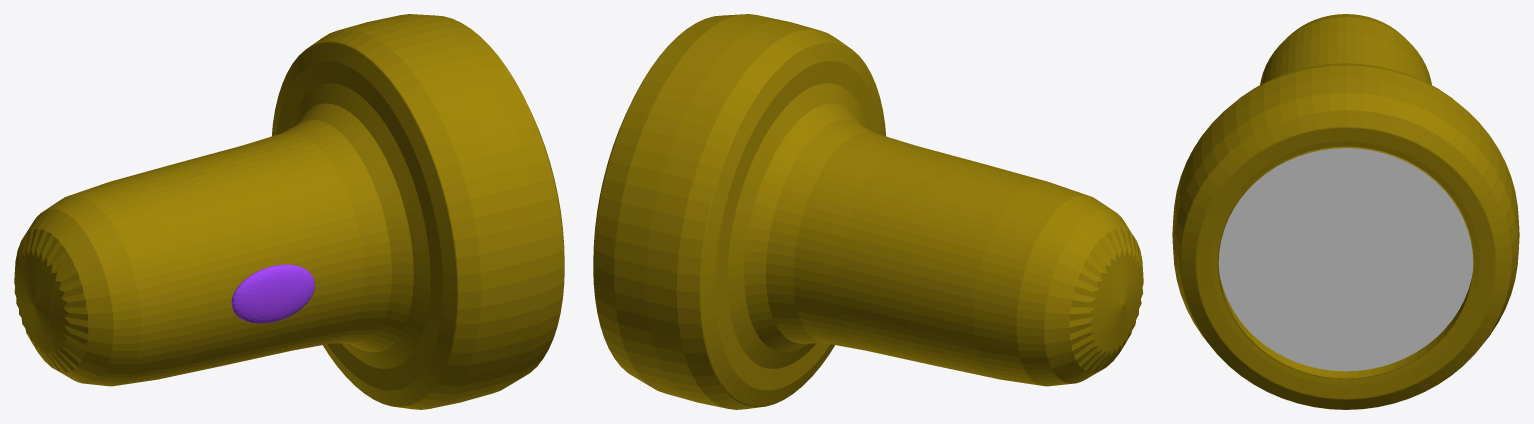
The model's file is flashLight_Fractured.fbx.
3 views of the same model, side by side, from view 1: azimuth 30°, elevation 25°; view 2: azimuth 150°, elevation 25°; view 3: azimuth 270°, elevation 25° (orthographic). The views are drawn at different scales.
Visible parts, largest first — view 1: Flashlight_cell.019, Flashlight_cell.011, Flashlight_cell.003, Flashlight_cell.021, Flashlight_cell.024, Flashlight_cell.010, Flashlight_cell.015, Flashlight_cell.016, Flashlight_cell.008, Flashlight_cell.001; view 2: Flashlight_cell.019, Flashlight_cell.013, Flashlight_cell.008, Flashlight_cell.001, Flashlight_cell.015, Flashlight_cell.005, Flashlight_cell.016, Flashlight_cell.002, Flashlight_cell.021, Flashlight_cell.011, Flashlight_cell.006, Flashlight_cell.003; view 3: Flashlight_cell.019, Flashlight_cell.023, Flashlight_cell.010, Flashlight_cell.013, Flashlight_cell.008, Flashlight_cell.011, Flashlight_cell.003, Flashlight_cell.015, Flashlight_cell.021.
Boxes of the visible parts, left/top/right/bottom form: Flashlight_cell.019: left=196, top=14, right=534, bottom=202; Flashlight_cell.011: left=375, top=127, right=539, bottom=396; Flashlight_cell.003: left=148, top=175, right=307, bottom=380; Flashlight_cell.021: left=49, top=197, right=176, bottom=386; Flashlight_cell.024: left=255, top=181, right=412, bottom=344; Flashlight_cell.010: left=434, top=120, right=564, bottom=404; Flashlight_cell.015: left=14, top=185, right=151, bottom=371; Flashlight_cell.016: left=292, top=334, right=450, bottom=409; Flashlight_cell.008: left=92, top=157, right=200, bottom=193; Flashlight_cell.001: left=255, top=61, right=302, bottom=203; Flashlight_cell.019: left=619, top=14, right=968, bottom=196; Flashlight_cell.013: left=593, top=127, right=743, bottom=404; Flashlight_cell.008: left=886, top=170, right=1022, bottom=370; Flashlight_cell.001: left=671, top=160, right=868, bottom=363; Flashlight_cell.015: left=1018, top=181, right=1133, bottom=374; Flashlight_cell.005: left=809, top=194, right=903, bottom=352; Flashlight_cell.016: left=710, top=336, right=863, bottom=409; Flashlight_cell.002: left=969, top=357, right=1108, bottom=386; Flashlight_cell.021: left=1030, top=180, right=1143, bottom=358; Flashlight_cell.011: left=856, top=59, right=886, bottom=136; Flashlight_cell.006: left=874, top=347, right=981, bottom=375; Flashlight_cell.003: left=967, top=159, right=1044, bottom=180; Flashlight_cell.019: left=1221, top=56, right=1481, bottom=215; Flashlight_cell.023: left=1278, top=199, right=1457, bottom=409; Flashlight_cell.010: left=1172, top=150, right=1334, bottom=396; Flashlight_cell.013: left=1421, top=136, right=1519, bottom=369; Flashlight_cell.008: left=1331, top=31, right=1431, bottom=84; Flashlight_cell.011: left=1172, top=114, right=1230, bottom=249; Flashlight_cell.003: left=1261, top=36, right=1339, bottom=84; Flashlight_cell.015: left=1319, top=14, right=1425, bottom=64; Flashlight_cell.021: left=1260, top=18, right=1325, bottom=84.
Size of the model in its own units: 205 by 156 by 156.
